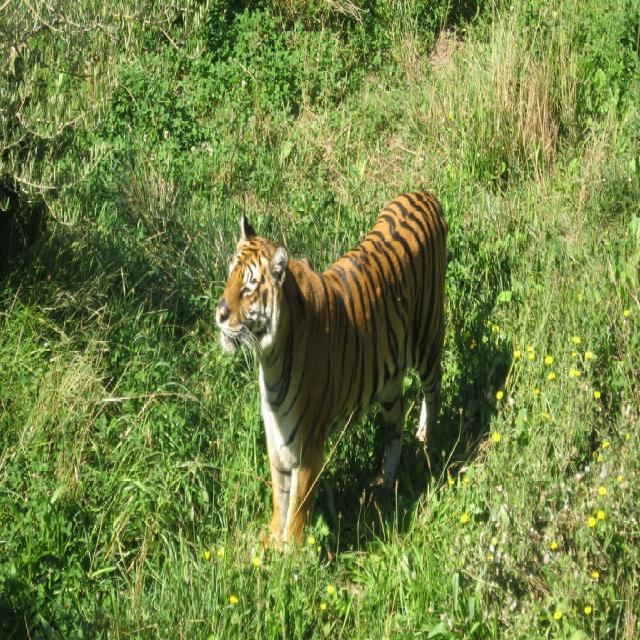Tiger: (214, 196, 444, 559)
